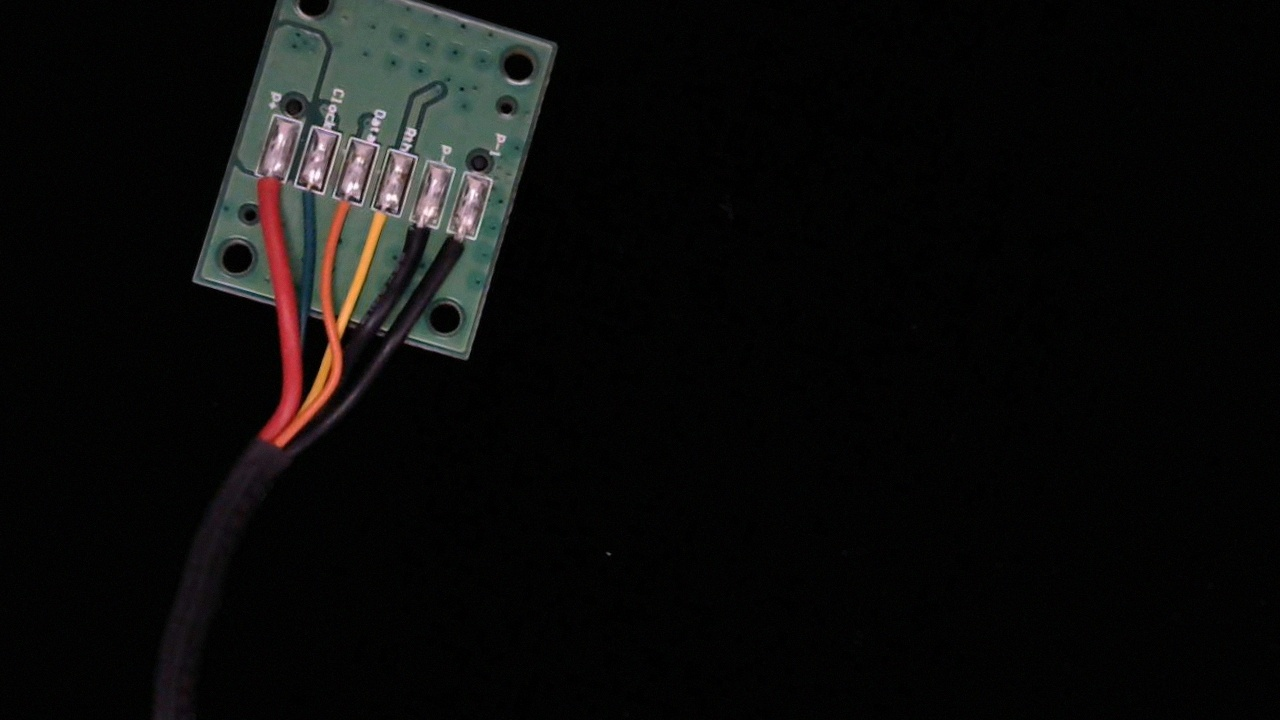Black: (391, 204, 443, 275)
Black1: (432, 215, 483, 289)
Green: (280, 169, 330, 237)
Orange: (318, 179, 368, 246)
Red: (237, 158, 291, 235)
Yellow: (355, 189, 404, 261)
